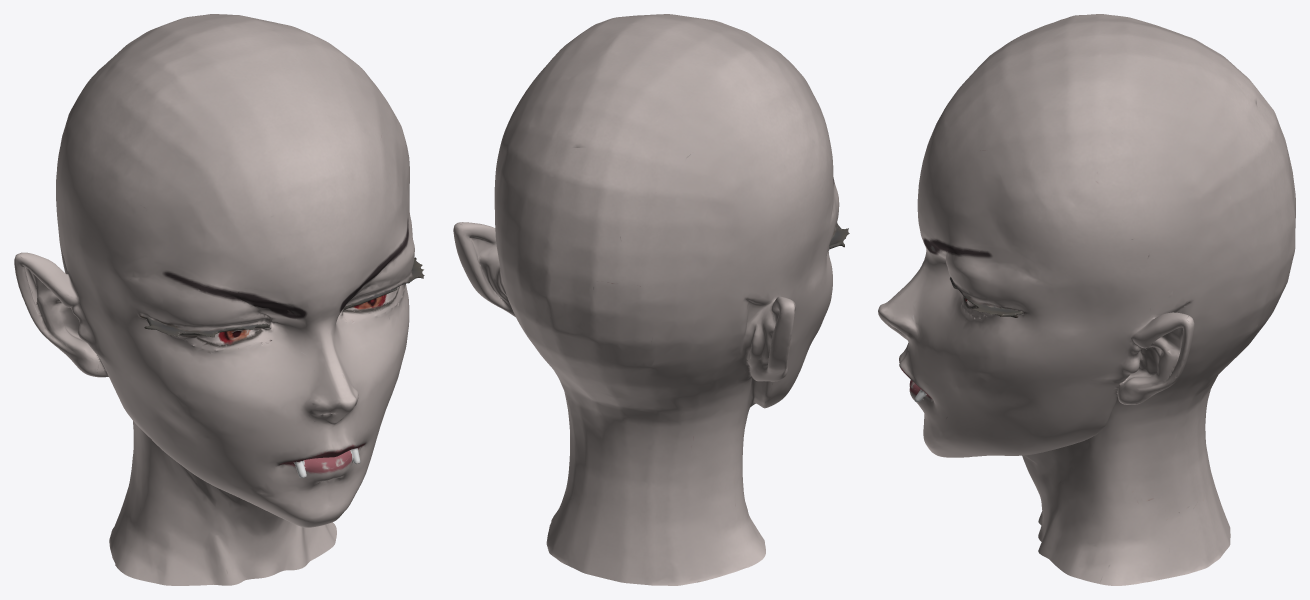
File: vampwarrior_head_master.glb
The picture shows the model from 3 angles, left to right: view 1: azimuth 30°, elevation 25°; view 2: azimuth 150°, elevation 25°; view 3: azimuth 270°, elevation 25°; orthographic projection. The views are drawn at different scales.
Visible parts, largest first — view 1: vampwarrior_head_master; view 2: vampwarrior_head_master; view 3: vampwarrior_head_master.
Boxes of the visible parts, <box> form: vampwarrior_head_master: <box>14,14,424,585</box>; vampwarrior_head_master: <box>453,14,849,585</box>; vampwarrior_head_master: <box>878,14,1295,585</box>.
Bounding box in the file's own units: 0.6189 × 0.8702 × 0.657.
Materials: 1 (1 with a texture image).
